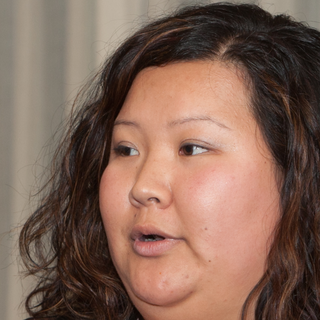eye: (172, 138, 219, 163), (111, 135, 142, 161)
